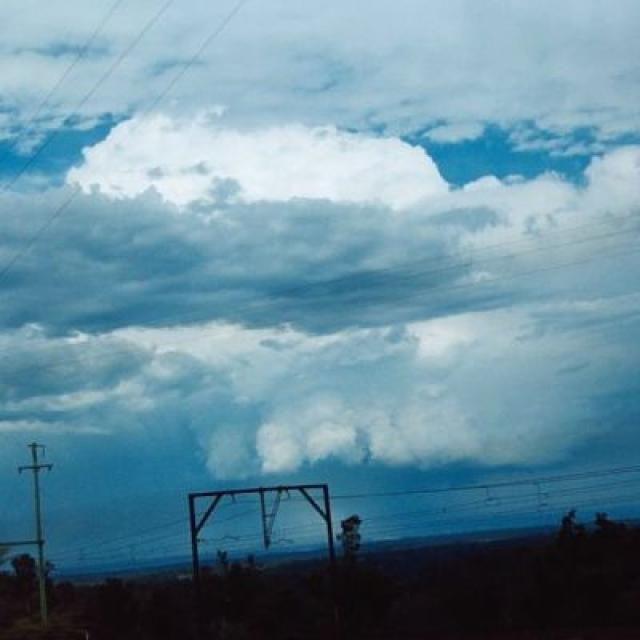Ac: (5, 17, 640, 397)
